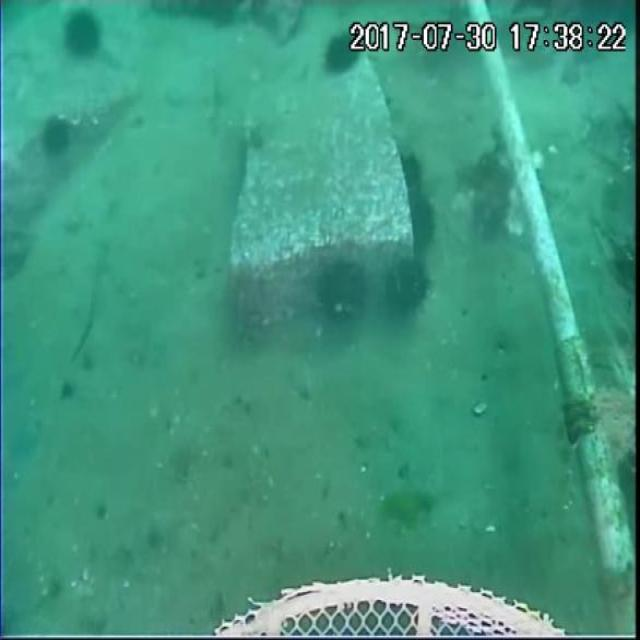echinus: (312, 257, 372, 327), (382, 253, 434, 326), (404, 190, 441, 254), (61, 9, 105, 60), (38, 114, 76, 162), (326, 31, 364, 76), (403, 149, 425, 200)
